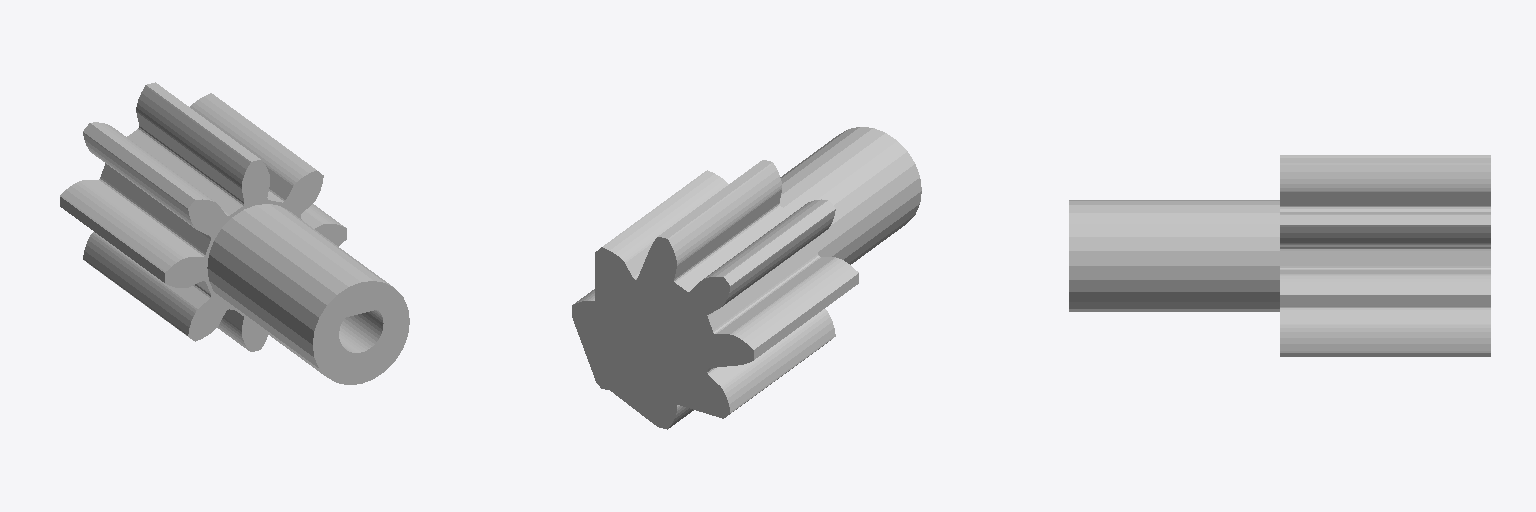
The model's file is RS_Pinion_v1.obj.
3 renders of one model, left to right at view 1: azimuth 30°, elevation 25°; view 2: azimuth 150°, elevation 25°; view 3: azimuth 270°, elevation 25°, orthographic.
Visible parts, largest first — view 1: Mesh1 Group2 Group1 Model, Mesh2 Group3 Group1 Model; view 2: Mesh1 Group2 Group1 Model, Mesh2 Group3 Group1 Model; view 3: Mesh1 Group2 Group1 Model, Mesh2 Group3 Group1 Model.
Boxes of the visible parts, x1,y1,x2,y2 form: Mesh1 Group2 Group1 Model: [60, 82, 346, 351]; Mesh2 Group3 Group1 Model: [207, 204, 409, 384]; Mesh1 Group2 Group1 Model: [572, 160, 858, 429]; Mesh2 Group3 Group1 Model: [780, 127, 921, 264]; Mesh1 Group2 Group1 Model: [1280, 155, 1490, 356]; Mesh2 Group3 Group1 Model: [1069, 200, 1279, 311].
Size of the model in its own units: 14.98 by 14.98 by 30.